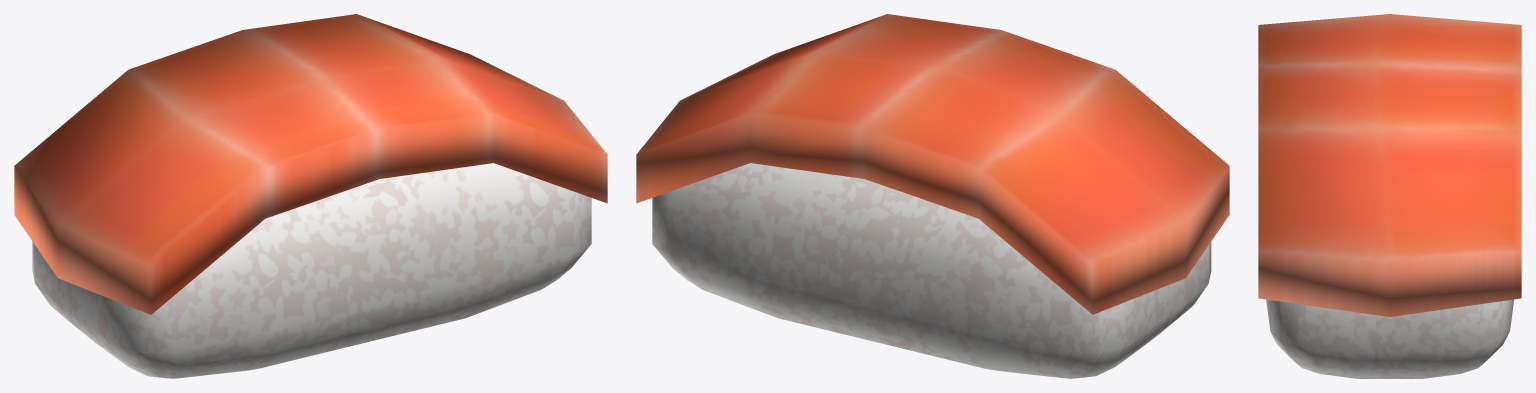
The model's file is Sake.fbx.
3 views of the same model, side by side, from view 1: azimuth 30°, elevation 25°; view 2: azimuth 150°, elevation 25°; view 3: azimuth 270°, elevation 25° (orthographic). The views are drawn at different scales.
Visible parts, largest first — view 1: Sake; view 2: Sake; view 3: Sake.
Part boxes in pixels (bbox=[...]): Sake: bbox=[14, 14, 607, 378]; Sake: bbox=[636, 14, 1229, 378]; Sake: bbox=[1258, 14, 1521, 378].
Bounding box in the file's own units: 1.3 × 0.6089 × 0.6183.
